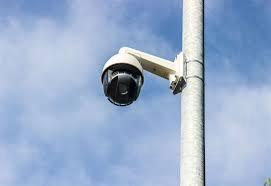Speed-Camera: (98, 42, 149, 109)
